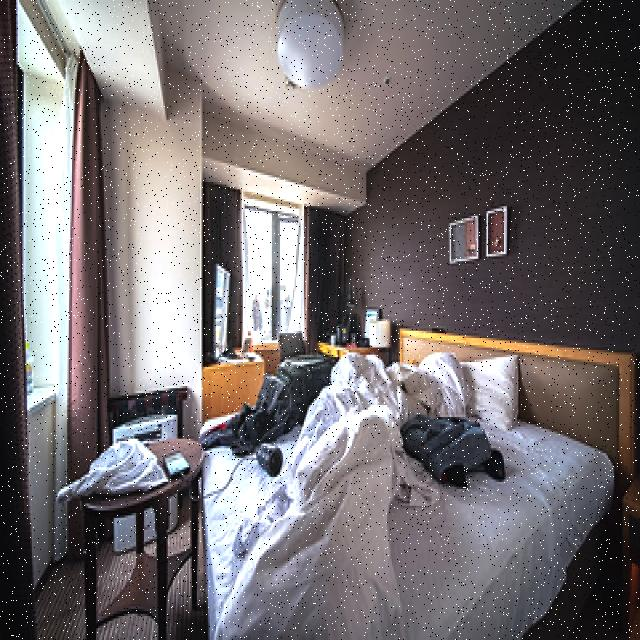bed: (194, 339, 630, 634)
